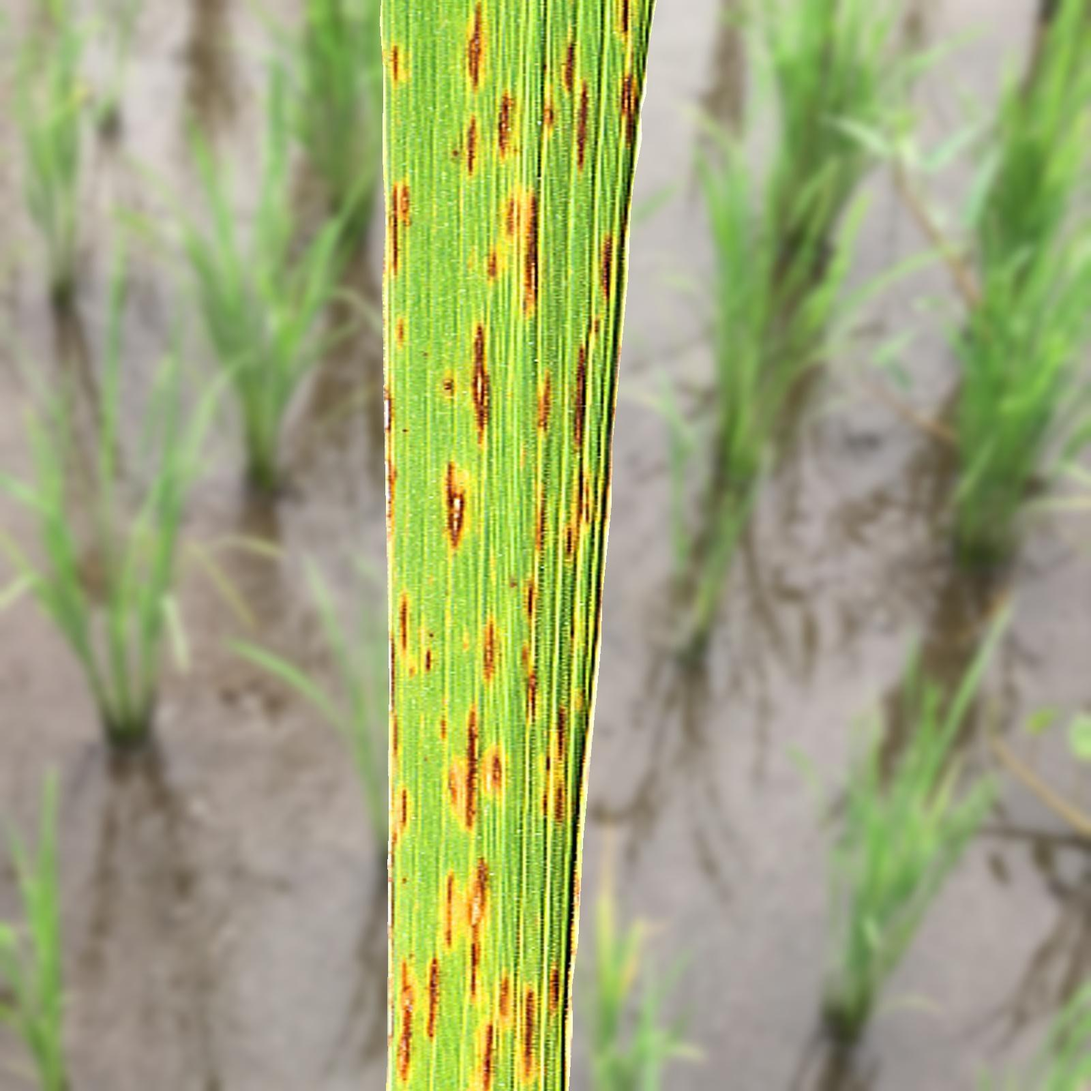LEAF: (380, 0, 656, 1090)
NBS: (388, 636, 409, 1046), (483, 179, 542, 318), (562, 342, 596, 562), (463, 855, 492, 1009), (468, 319, 493, 448), (441, 459, 472, 552), (387, 178, 413, 279), (397, 959, 418, 1084), (384, 385, 400, 543), (519, 984, 540, 1085), (451, 110, 480, 177), (466, 3, 486, 95), (398, 591, 418, 680), (464, 706, 478, 828), (553, 705, 567, 827), (497, 89, 518, 166), (533, 368, 555, 436), (521, 644, 539, 727), (475, 1020, 496, 1090), (597, 230, 615, 309), (575, 74, 589, 174), (621, 75, 639, 151), (425, 958, 441, 1039), (533, 477, 549, 553), (497, 969, 517, 1028), (449, 755, 464, 823), (561, 40, 578, 98), (443, 871, 455, 948), (540, 748, 553, 819), (546, 965, 562, 1017), (486, 747, 503, 794), (483, 620, 495, 681), (542, 92, 556, 141), (525, 582, 538, 620), (441, 370, 457, 399), (395, 314, 407, 351), (619, 1, 631, 36), (392, 39, 400, 84), (437, 712, 448, 743), (423, 645, 433, 675), (593, 316, 601, 334), (400, 873, 408, 887), (509, 577, 518, 588), (401, 426, 410, 435), (427, 630, 434, 640), (421, 349, 428, 358), (423, 756, 429, 762)
